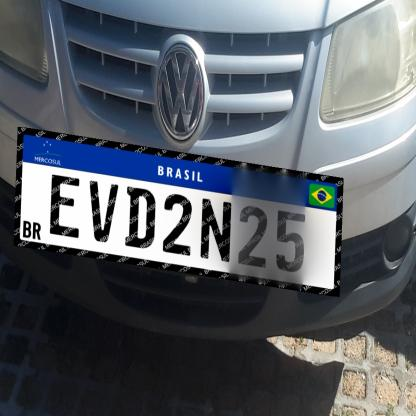PlacaM: (14, 127, 343, 297)
